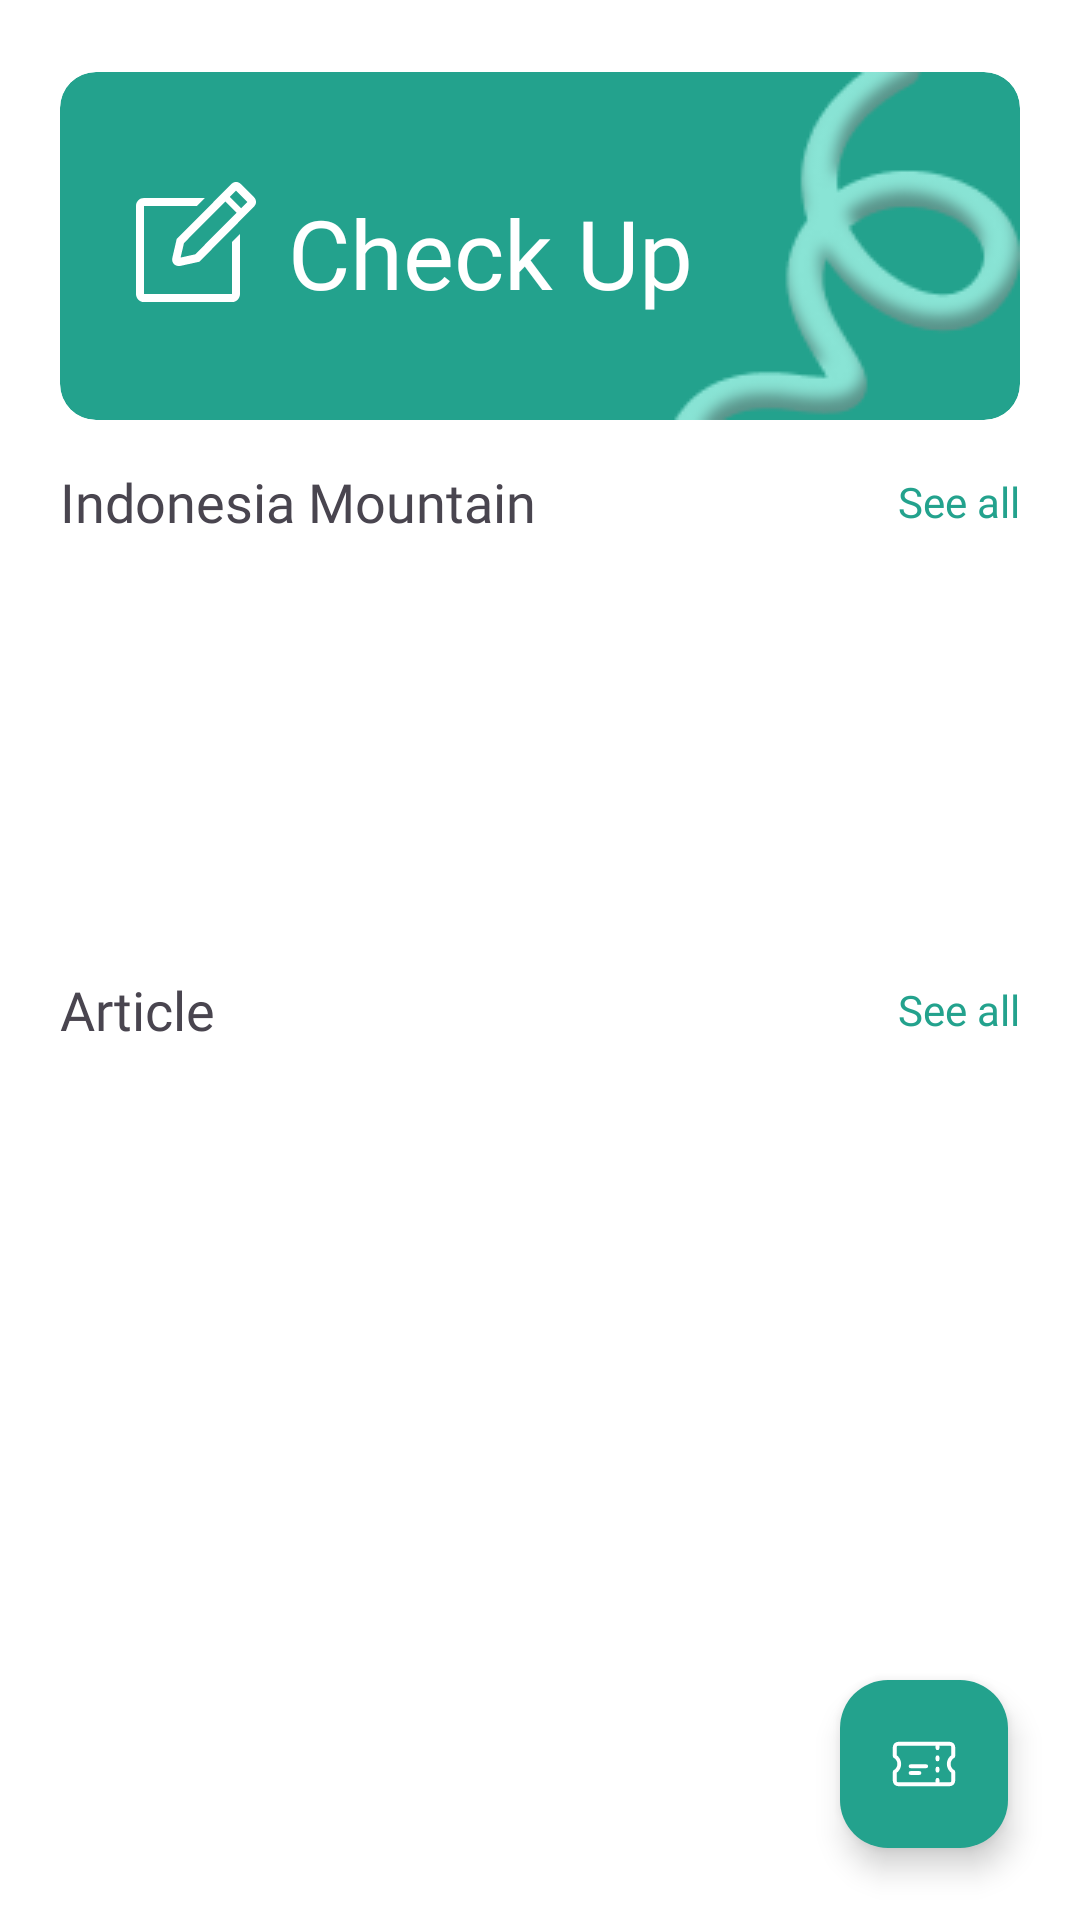

Icons on this 1080px×1920px Android screen, each with the point to tap as point (x, y):
clarity note line: point (196, 242)
heroicons ticket: point (924, 1764)
